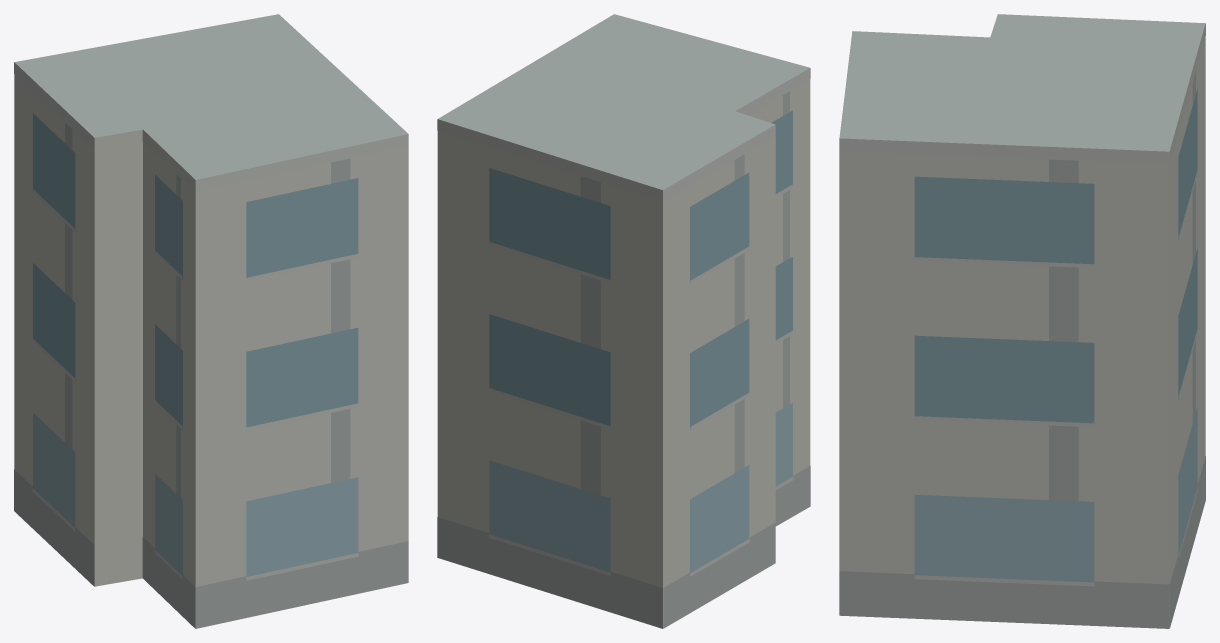
Rendered from survey-upis-32526745.glb.
3 renders of one model, left to right at view 1: azimuth 30°, elevation 25°; view 2: azimuth 150°, elevation 25°; view 3: azimuth 270°, elevation 25°, orthographic. The views are drawn at different scales.
Visible parts, largest first — view 1: survey-upis-32526745.tmp; view 2: survey-upis-32526745.tmp; view 3: survey-upis-32526745.tmp.
Part boxes in pixels (x1,y1,x2,y2): survey-upis-32526745.tmp: (14,14,408,628); survey-upis-32526745.tmp: (437,14,810,628); survey-upis-32526745.tmp: (839,14,1205,628).
Bounding box in the file's own units: 5.67 × 9.15 × 6.37.
